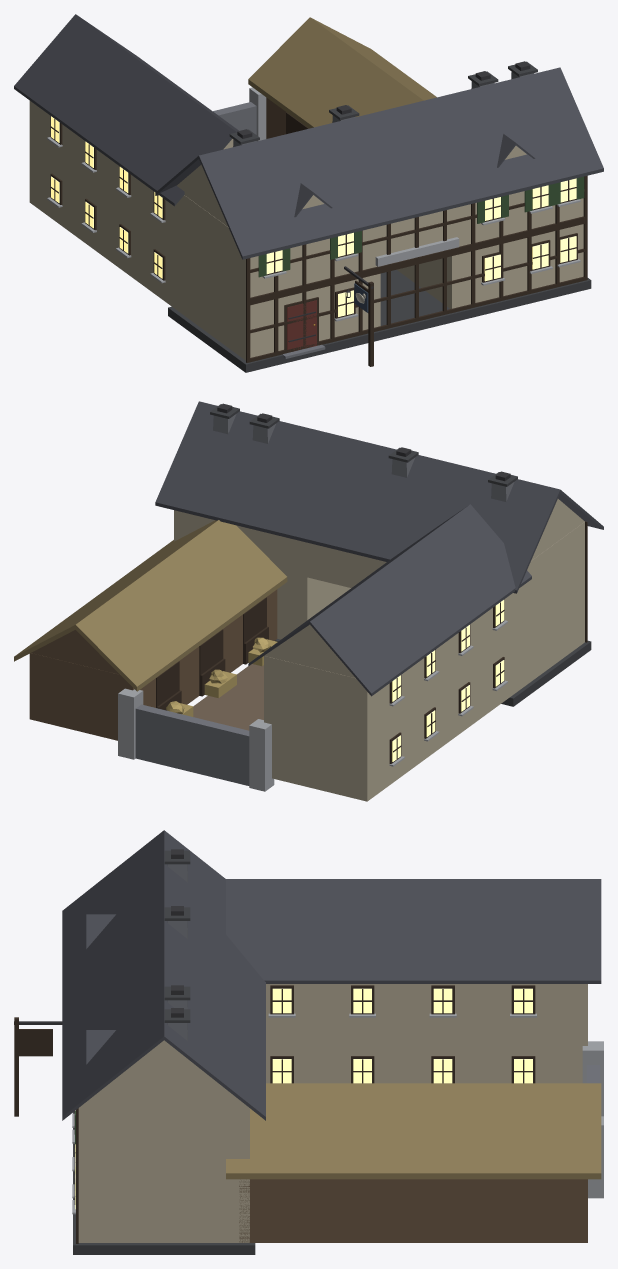
File: prancing_pony.glb
The picture shows the model from 3 angles, top to bottom: view 1: azimuth 30°, elevation 25°; view 2: azimuth 150°, elevation 25°; view 3: azimuth 270°, elevation 25°; orthographic projection. The views are drawn at different scales.
Parts seen in each view (by area): view 1: prancing_pony; view 2: prancing_pony; view 3: prancing_pony.
Part boxes in pixels (left/top/right/bottom): prancing_pony: left=14, top=14, right=603, bottom=372; prancing_pony: left=14, top=401, right=603, bottom=801; prancing_pony: left=14, top=830, right=603, bottom=1254.
Size of what is drawn, in the model's own units: 18.2 by 9.5 by 22.
